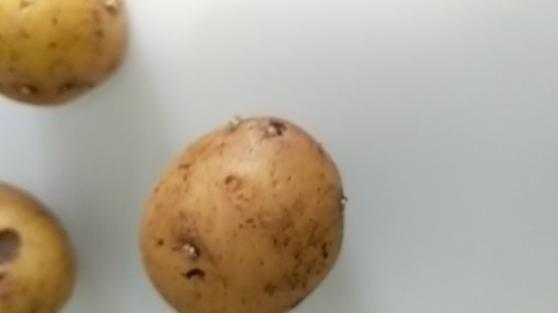potato: (140, 115, 346, 313), (1, 1, 128, 108), (1, 183, 76, 313)
